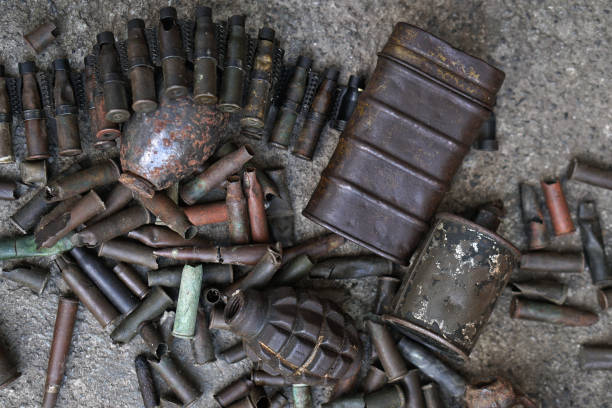e1: (224, 289, 360, 383)
